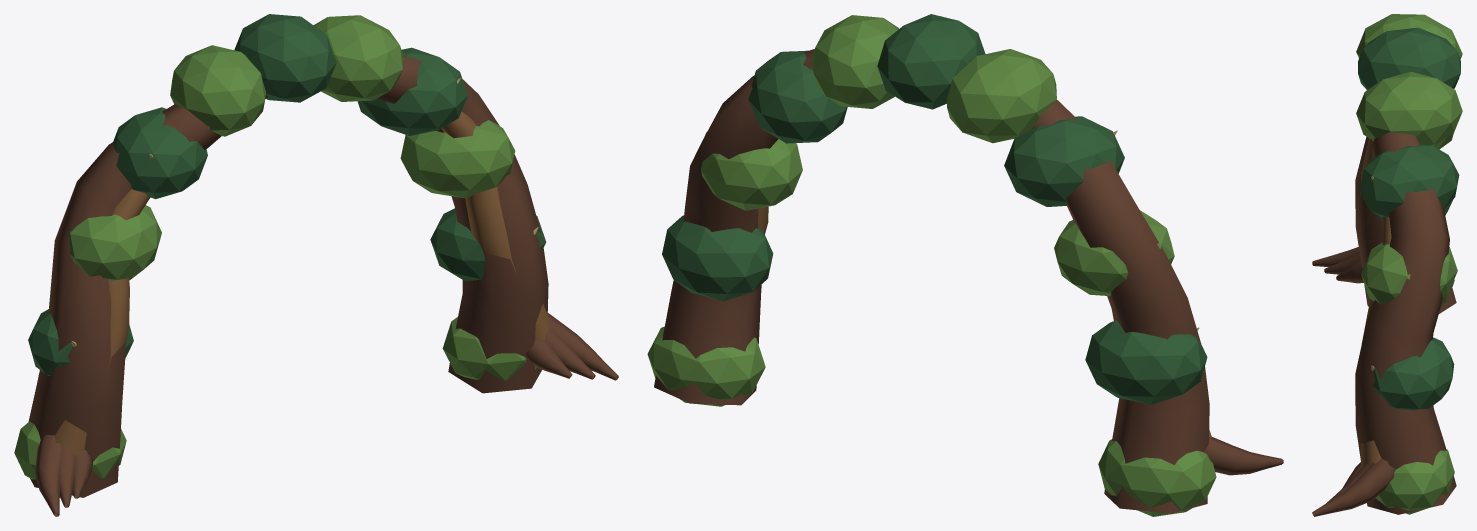
Rendered from bramble_arch.glb.
The picture shows the model from 3 angles, left to right: view 1: azimuth 30°, elevation 25°; view 2: azimuth 150°, elevation 25°; view 3: azimuth 270°, elevation 25°; orthographic projection. The views are drawn at different scales.
Visible parts, largest first — view 1: Pigment_5d3d2d, Pigment_5b853f, Pigment_315b37, Pigment_805b37; view 2: Pigment_315b37, Pigment_5b853f, Pigment_5d3d2d; view 3: Pigment_5d3d2d, Pigment_315b37, Pigment_5b853f, Pigment_805b37.
Part boxes in pixels (left/top/right/bottom): Pigment_5d3d2d: left=28, top=56, right=618, bottom=516; Pigment_5b853f: left=14, top=15, right=538, bottom=479; Pigment_315b37: left=28, top=14, right=546, bottom=375; Pigment_805b37: left=54, top=111, right=550, bottom=455; Pigment_315b37: left=662, top=14, right=1207, bottom=404; Pigment_5b853f: left=647, top=15, right=1216, bottom=516; Pigment_5d3d2d: left=654, top=49, right=1283, bottom=513; Pigment_5d3d2d: left=1312, top=132, right=1456, bottom=516; Pigment_315b37: left=1358, top=27, right=1460, bottom=410; Pigment_5b853f: left=1356, top=14, right=1462, bottom=514; Pigment_805b37: left=1359, top=138, right=1391, bottom=467.
Bounding box in the file's own units: 6.85 × 4.8 × 1.72.
